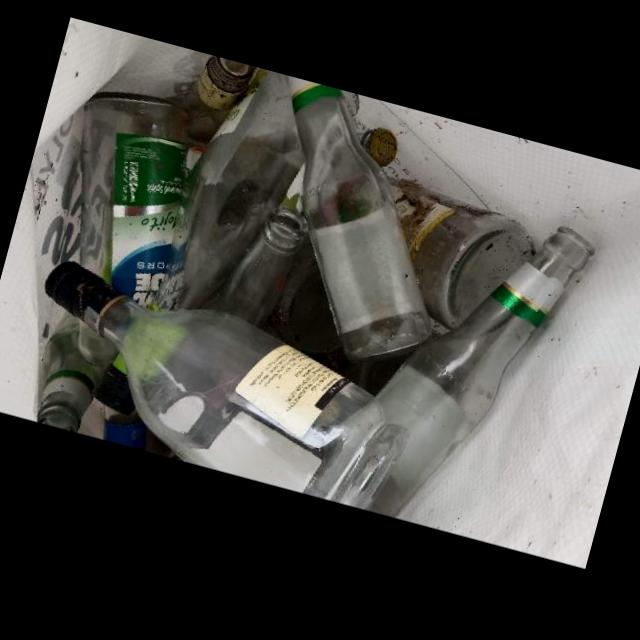chai_thuy_tinh: (43, 261, 410, 511), (366, 225, 593, 518), (287, 76, 431, 362), (151, 68, 305, 310), (79, 96, 189, 309), (387, 177, 537, 331), (206, 206, 308, 327), (36, 313, 96, 433), (77, 321, 118, 379), (101, 407, 146, 451)
